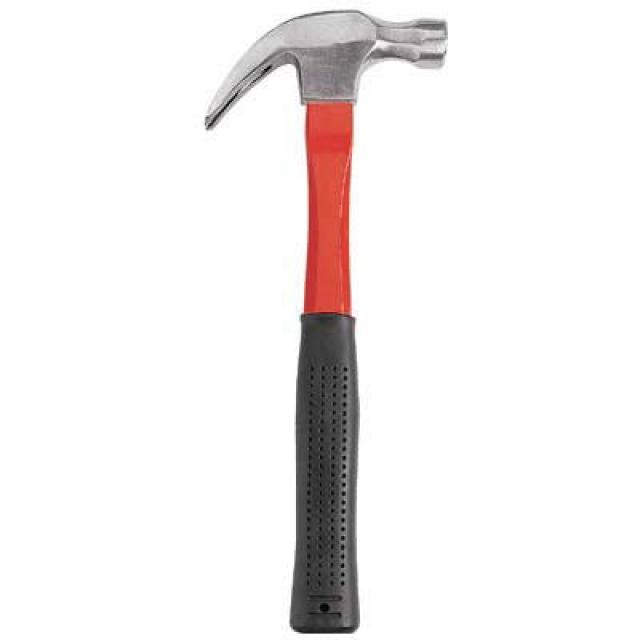hammer: (194, 0, 476, 640)
